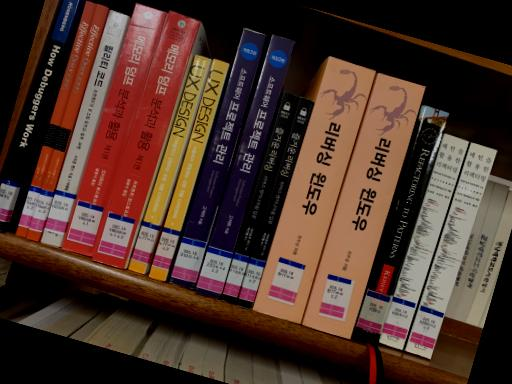book-spine: (252, 56, 376, 324), (302, 73, 425, 340), (91, 10, 200, 269), (194, 34, 295, 300), (62, 3, 167, 257), (169, 28, 266, 290), (353, 105, 450, 343), (41, 9, 130, 247), (405, 143, 497, 360), (378, 133, 469, 351), (26, 4, 108, 242), (16, 1, 96, 237), (128, 55, 213, 274), (149, 59, 229, 281), (236, 97, 314, 309), (221, 92, 298, 305)
